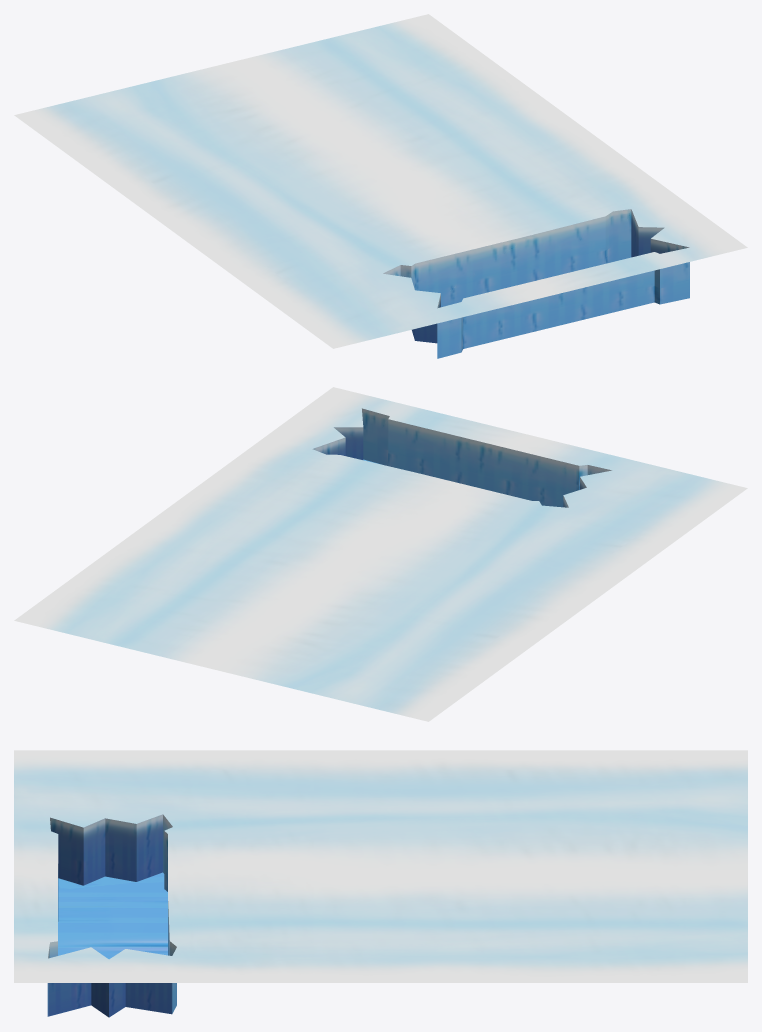
The model's file is Hole_L_Size_06.FBX.
3 views of the same model, one above another, from view 1: azimuth 30°, elevation 25°; view 2: azimuth 150°, elevation 25°; view 3: azimuth 270°, elevation 25° (orthographic). The views are drawn at different scales.
Visible parts, largest first — view 1: Object118; view 2: Object118; view 3: Object118.
Part boxes in pixels (x1=…): Object118: x1=14, y1=14, x2=747, y2=358; Object118: x1=14, y1=387, x2=747, y2=721; Object118: x1=14, y1=750, x2=747, y2=1017.
Size of the model in its own units: 600 by 70 by 800.
